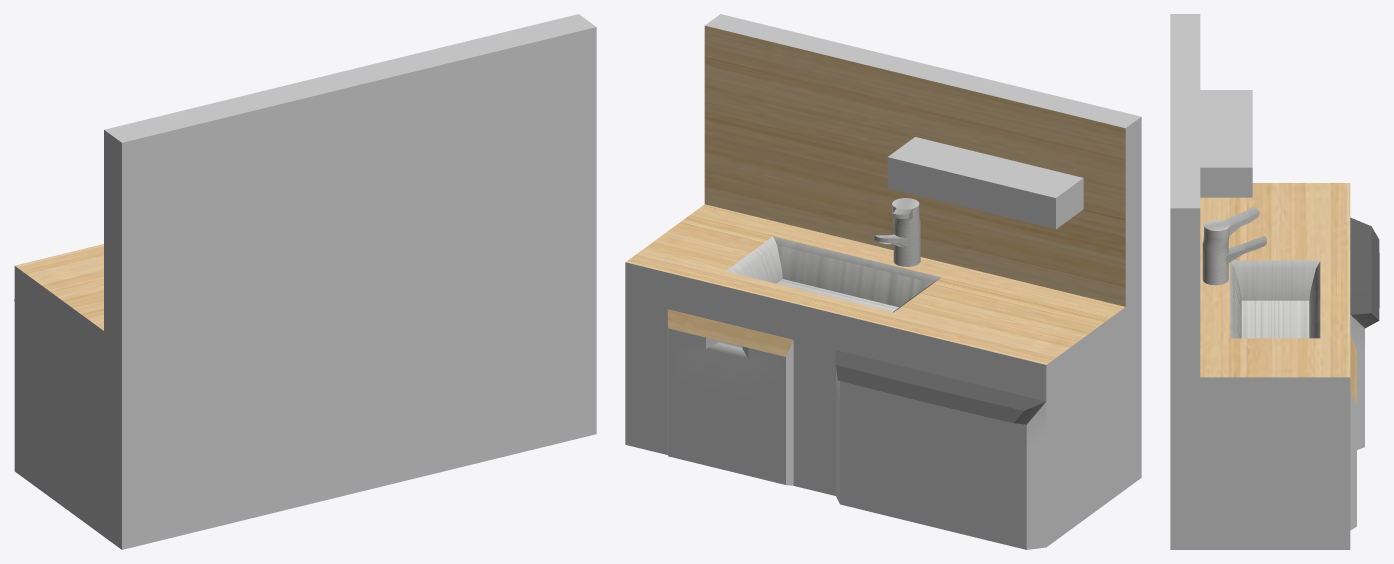
File: sinnku.fbx
The picture shows the model from 3 angles, left to right: view 1: azimuth 30°, elevation 25°; view 2: azimuth 150°, elevation 25°; view 3: azimuth 270°, elevation 25°; orthographic projection. The views are drawn at different scales.
Parts seen in each view (by area): view 1: pCube1; view 2: pCube1, pCylinder1; view 3: pCube1, pCylinder1.
Boxes of the visible parts, box(x1,y1,x2,y2) form: pCube1: box(14, 14, 596, 549); pCube1: box(625, 14, 1141, 549); pCylinder1: box(874, 198, 920, 266); pCube1: box(1170, 14, 1379, 549); pCylinder1: box(1202, 207, 1266, 285).
Bounding box in the file's own units: 183 × 150 × 83.34.
4 materials, 2 textured.
